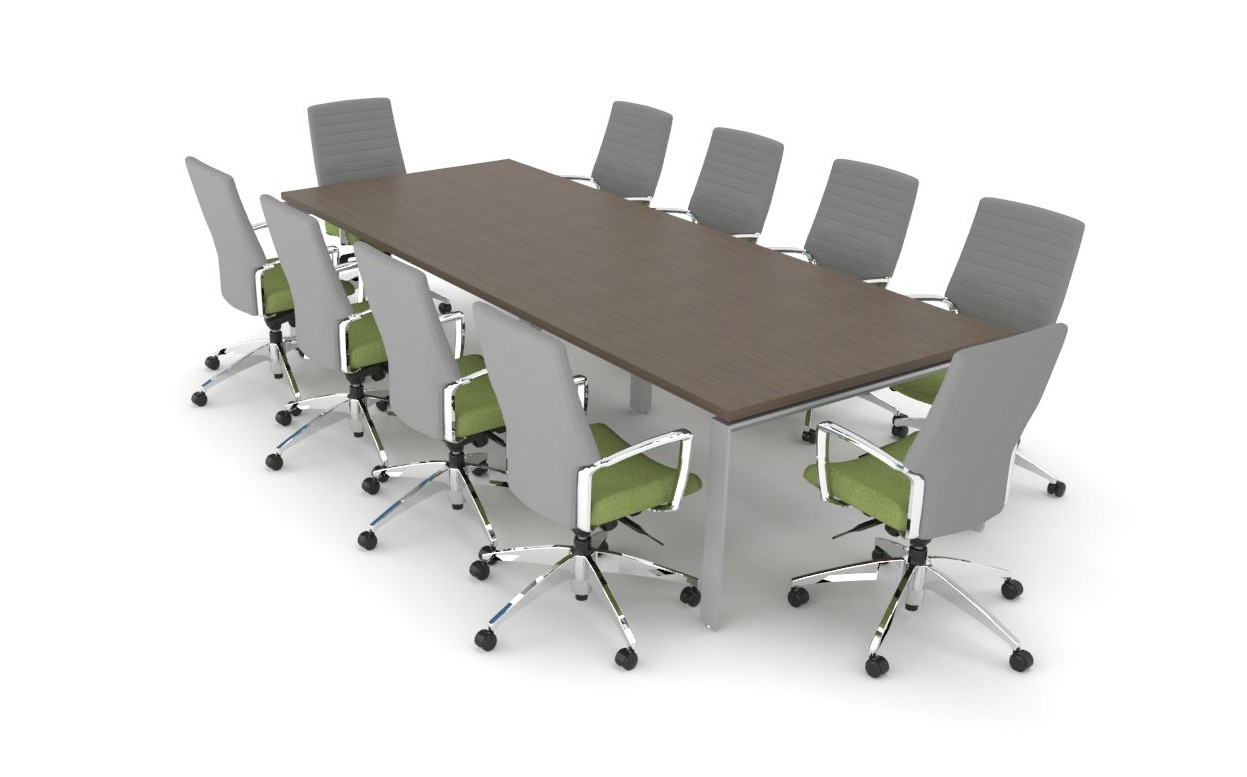conference_table: (279, 159, 1017, 630)
